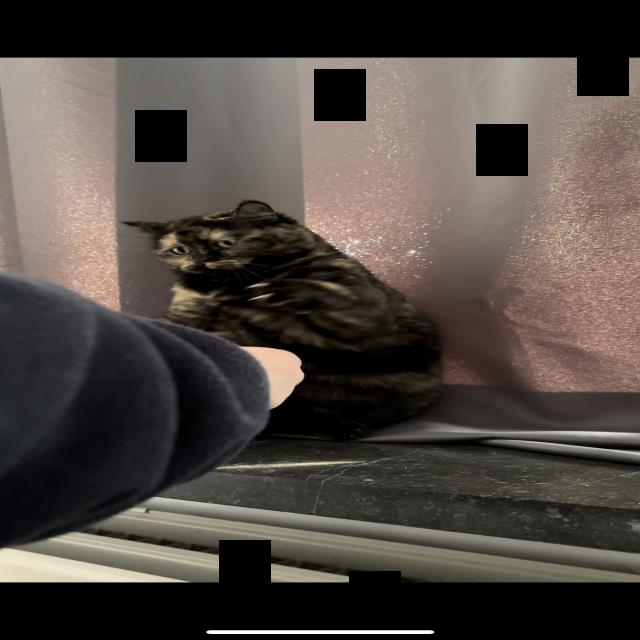authorized: (120, 199, 444, 441)
